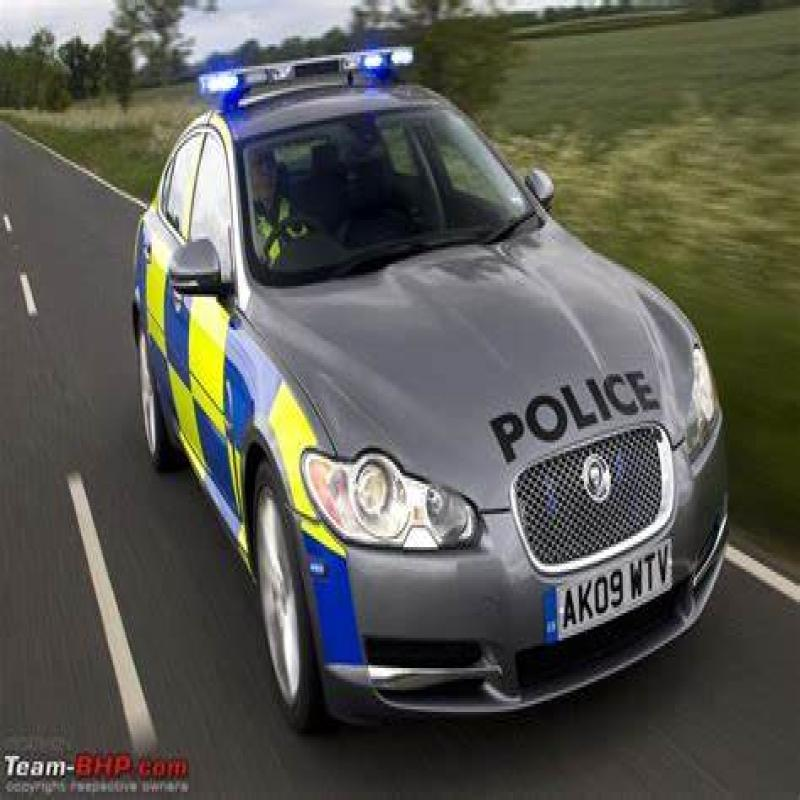AmbulanceSiren: (185, 43, 409, 105)
car: (161, 146, 722, 744)
